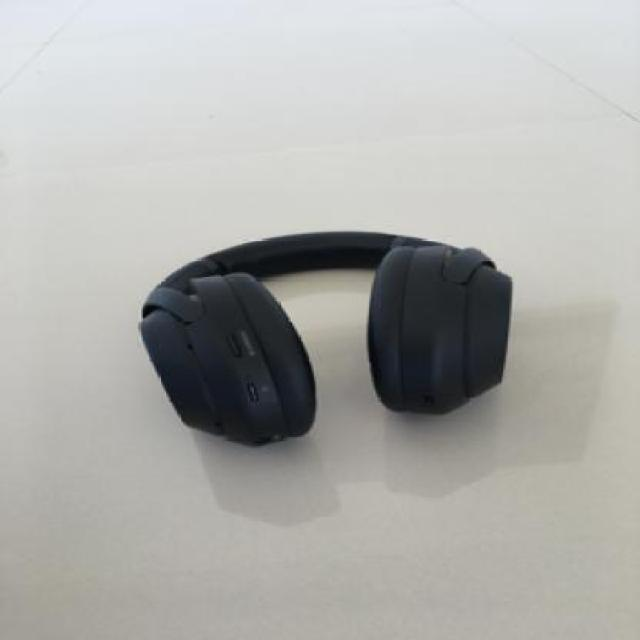earphone: (126, 154, 586, 494)
